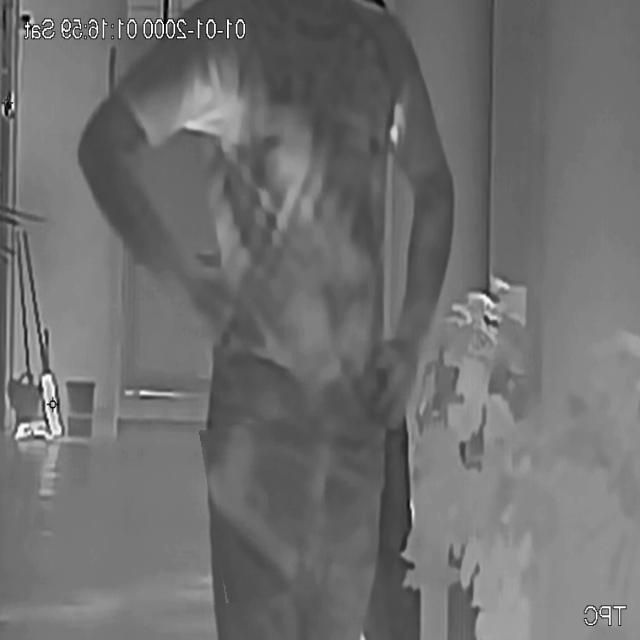Weapon: (206, 419, 310, 600)
